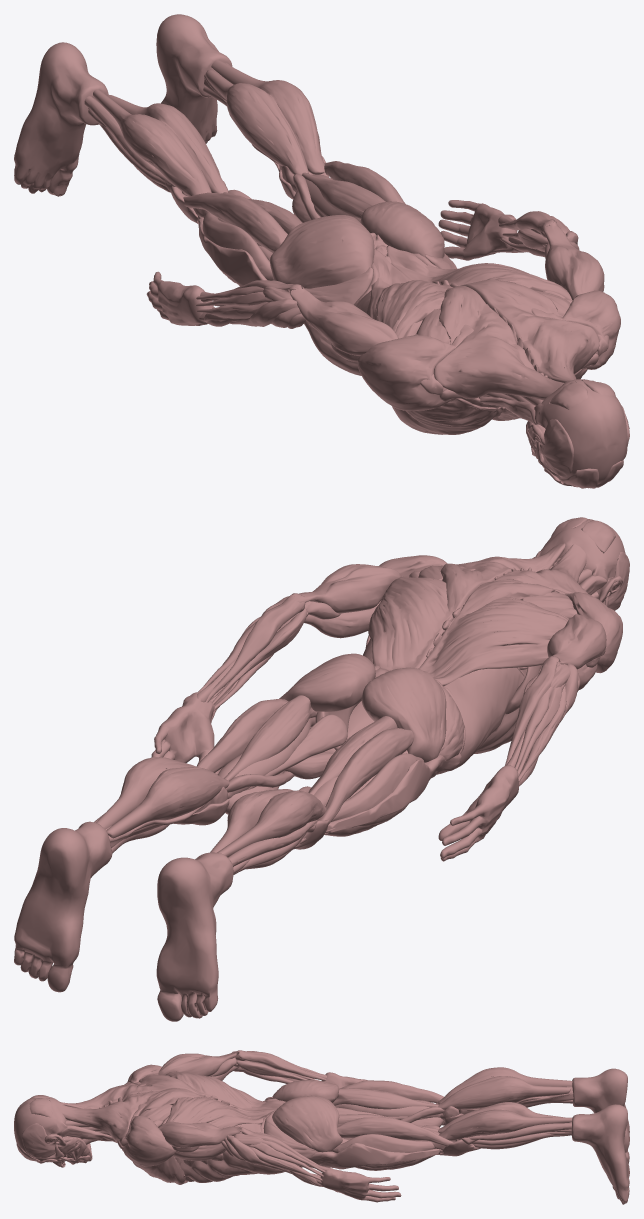
File: corpo-por-musculo.glb
3 renders of one model, top to bottom at view 1: azimuth 30°, elevation 25°; view 2: azimuth 150°, elevation 25°; view 3: azimuth 270°, elevation 25°, orthographic. The views are drawn at different scales.
Parts seen in each view (by area): view 1: Corpo, Trapézio, Gastrocnêmio, Glúteo_máximo, Cabeça_longa_do_tríceps, Bíceps_femoral, Dorsal, Extensores_do_antebraço, Semitendinoso, Flexores_do_antebraço, Peitoral_maior, Deltoide_posterior (+9 smaller); view 2: Corpo, Dorsal, Gastrocnêmio, Glúteo_máximo, Trapézio, Bíceps_femoral, Extensores_do_antebraço, Oblíquos, Semitendinoso, Cabeça_longa_do_tríceps, Semimembranoso, Flexores_do_antebraço (+7 smaller); view 3: Corpo, Gastrocnêmio, Trapézio, Bíceps_femoral, Glúteo_máximo, Dorsal, Cabeça_longa_do_tríceps, Extensores_do_antebraço, Semitendinoso, Sóleo, Flexores_do_antebraço, Vasto_lateral (+12 smaller).
Part boxes in pixels (x1,y1,x2,y2): Corpo: (14,14,629,488); Trapézio: (404,279,608,400); Gastrocnêmio: (93,60,324,196); Glúteo_máximo: (270,201,444,288); Cabeça_longa_do_tríceps: (290,220,604,355); Bíceps_femoral: (183,161,405,284); Dorsal: (367,263,568,337); Extensores_do_antebraço: (196,211,569,328); Semitendinoso: (223,172,385,234); Flexores_do_antebraço: (197,228,579,327); Peitoral_maior: (392,368,587,434); Deltoide_posterior: (365,290,619,371); Corpo: (14,517,629,1021); Dorsal: (368,576,568,675); Gastrocnêmio: (96,756,326,857); Glúteo_máximo: (279,653,446,762); Trapézio: (409,543,588,628); Bíceps_femoral: (196,699,423,843); Extensores_do_antebraço: (197,593,570,776); Oblíquos: (347,635,541,774); Semitendinoso: (218,695,397,805); Cabeça_longa_do_tríceps: (293,564,606,669); Semimembranoso: (174,714,424,849); Flexores_do_antebraço: (210,596,580,785); Corpo: (14,1068,629,1204); Gastrocnêmio: (438,1067,572,1140); Trapézio: (61,1069,215,1149); Bíceps_femoral: (333,1080,474,1168); Glúteo_máximo: (272,1080,342,1152); Dorsal: (161,1071,250,1128); Cabeça_longa_do_tríceps: (158,1051,241,1147); Extensores_do_antebraço: (221,1050,333,1176); Semitendinoso: (332,1088,441,1134); Sóleo: (455,1086,573,1149); Flexores_do_antebraço: (224,1051,322,1184); Vasto_lateral: (296,1143,443,1169).
Bounding box in the file's own units: 26.77 × 12.18 × 68.51.
